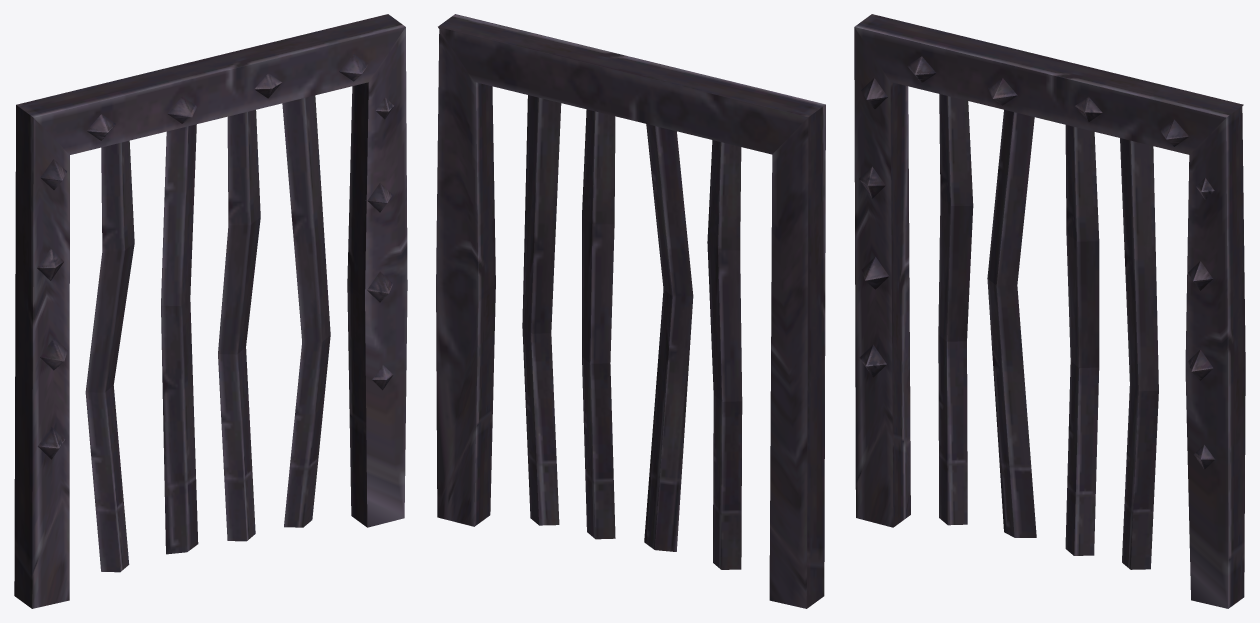
The model's file is lava_wallgrate_01.fbx.
3 views of the same model, side by side, from view 1: azimuth 30°, elevation 25°; view 2: azimuth 150°, elevation 25°; view 3: azimuth 330°, elevation 25° (orthographic).
Visible parts, largest first — view 1: obj0.048; view 2: obj0.048; view 3: obj0.048.
Boxes of the visible parts, x1,y1,x2,y2 form: obj0.048: [14, 14, 407, 608]; obj0.048: [436, 14, 825, 608]; obj0.048: [854, 14, 1245, 608].
Size of the model in its own units: 4.03 by 5.07 by 0.5889.
